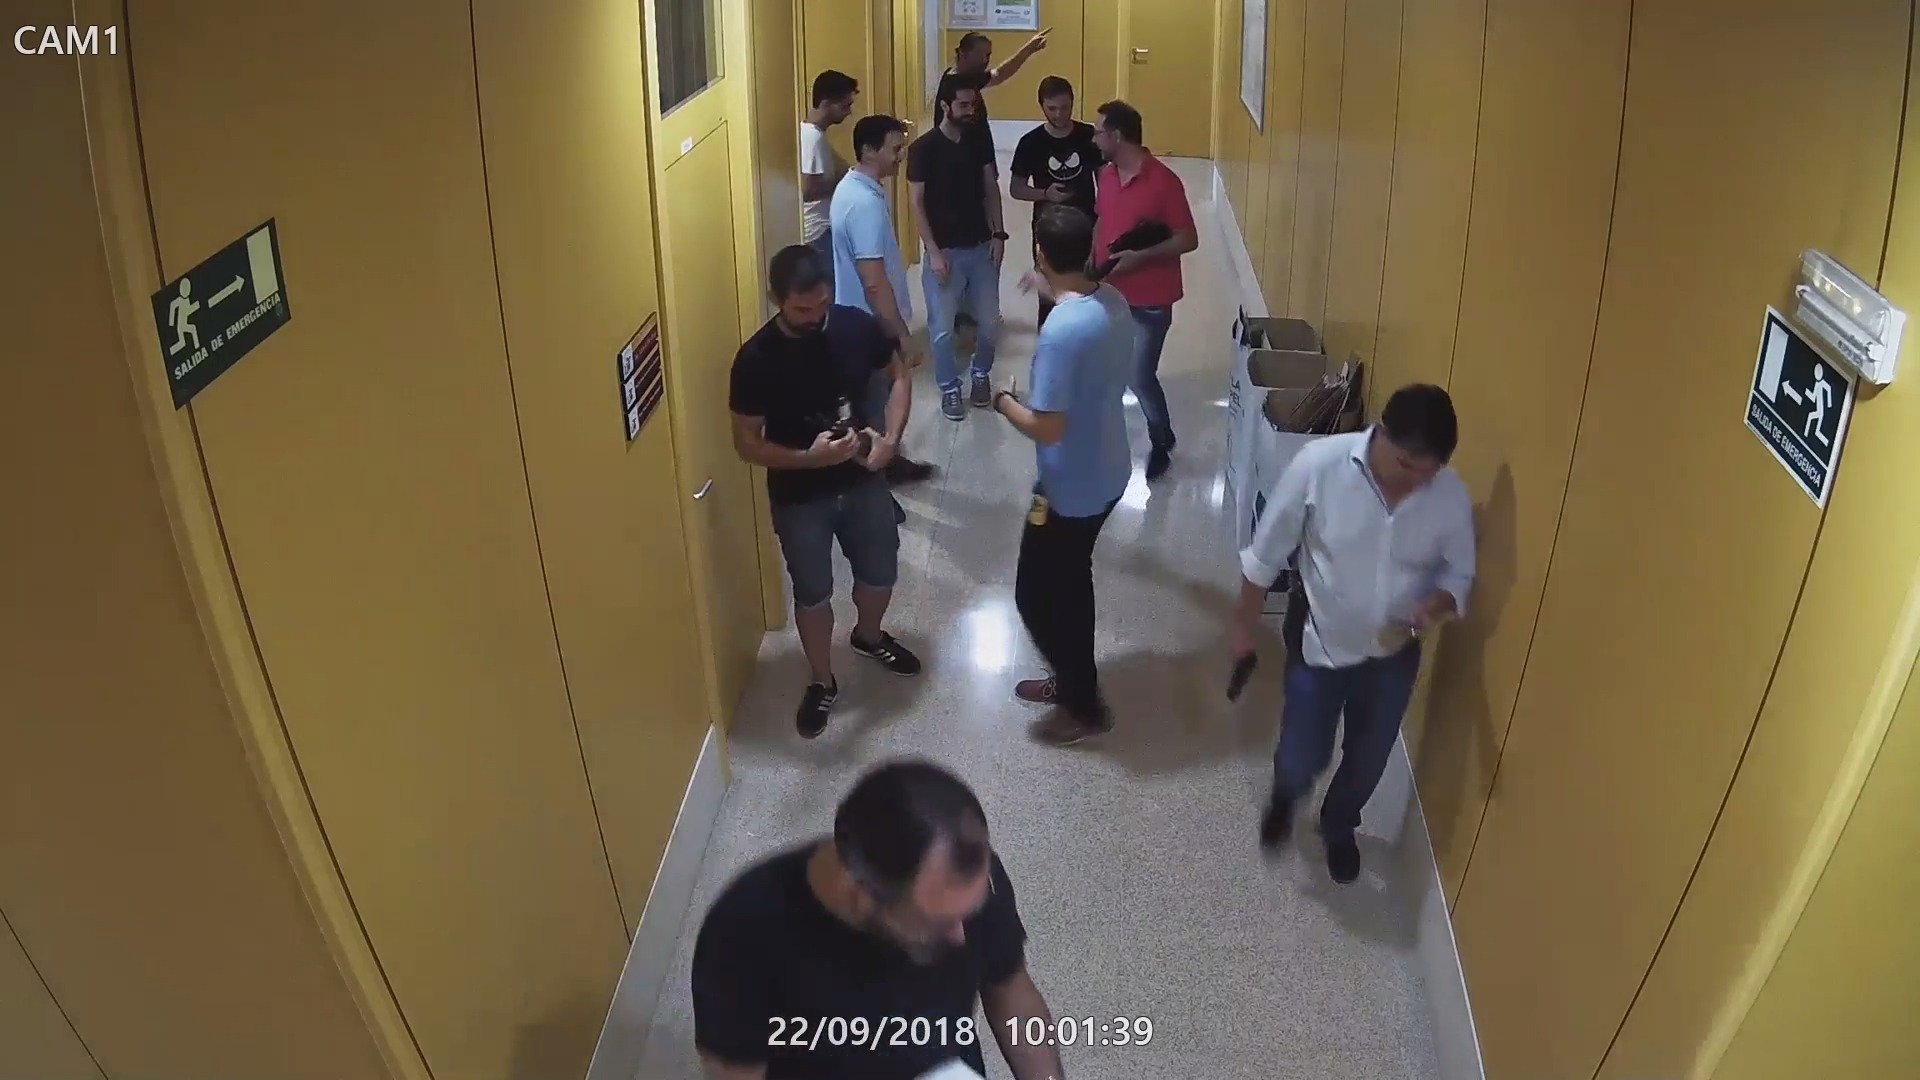Handgun: (1220, 629, 1266, 709)
Short_rifle: (1084, 212, 1182, 286), (796, 400, 897, 471)
